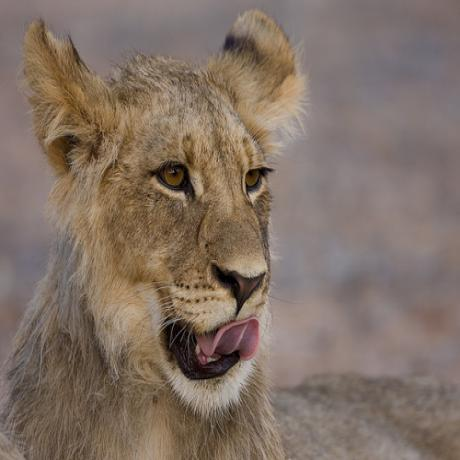Lion: (2, 6, 307, 460)
